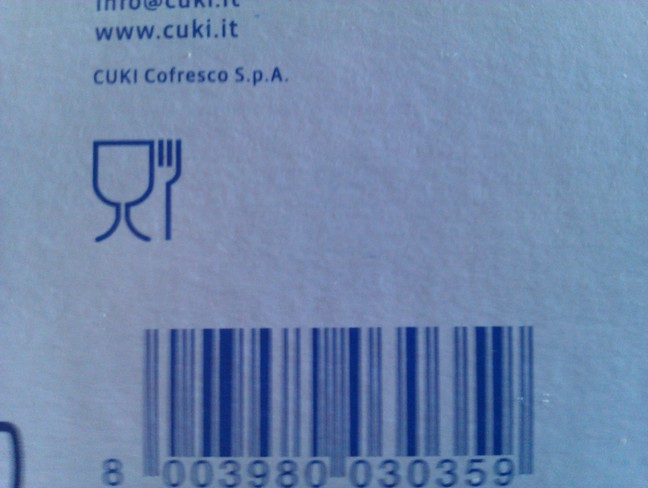detection: (79, 303, 561, 482)
